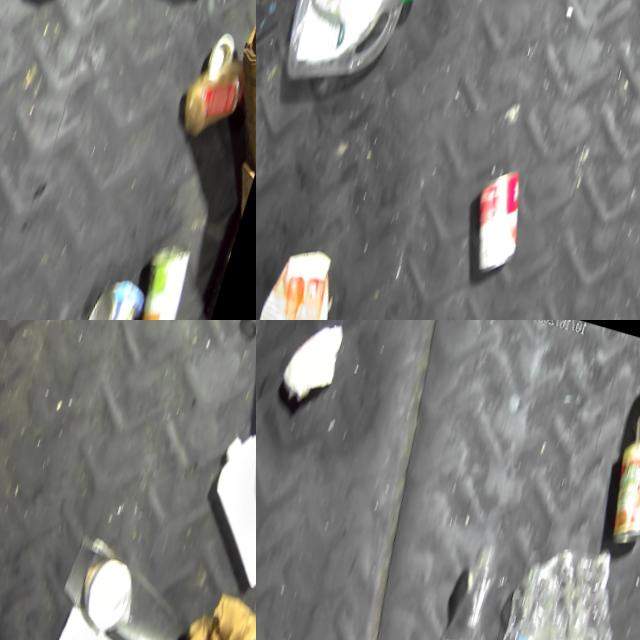can: (451, 150, 546, 281), (134, 238, 200, 320), (82, 260, 156, 320), (607, 412, 640, 534)
milk_jug: (189, 419, 256, 584)
plastic_bottle: (484, 527, 640, 640), (403, 521, 521, 640)
